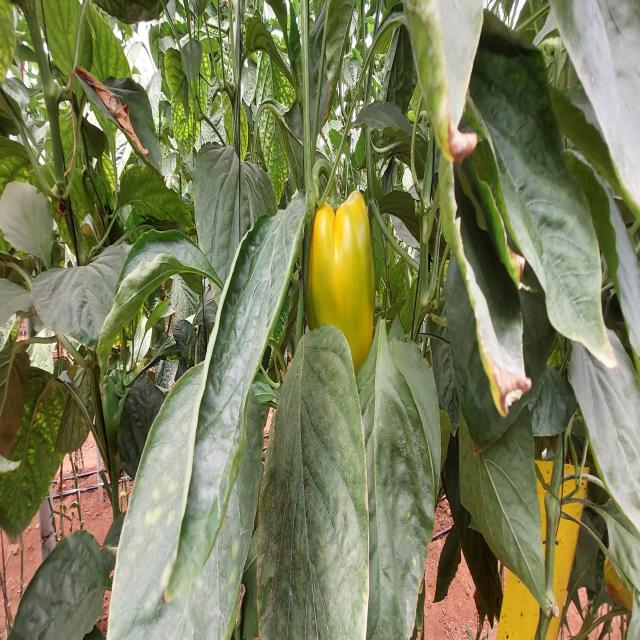GreenishYellow--Can-be-Harvested: (286, 182, 389, 382)
